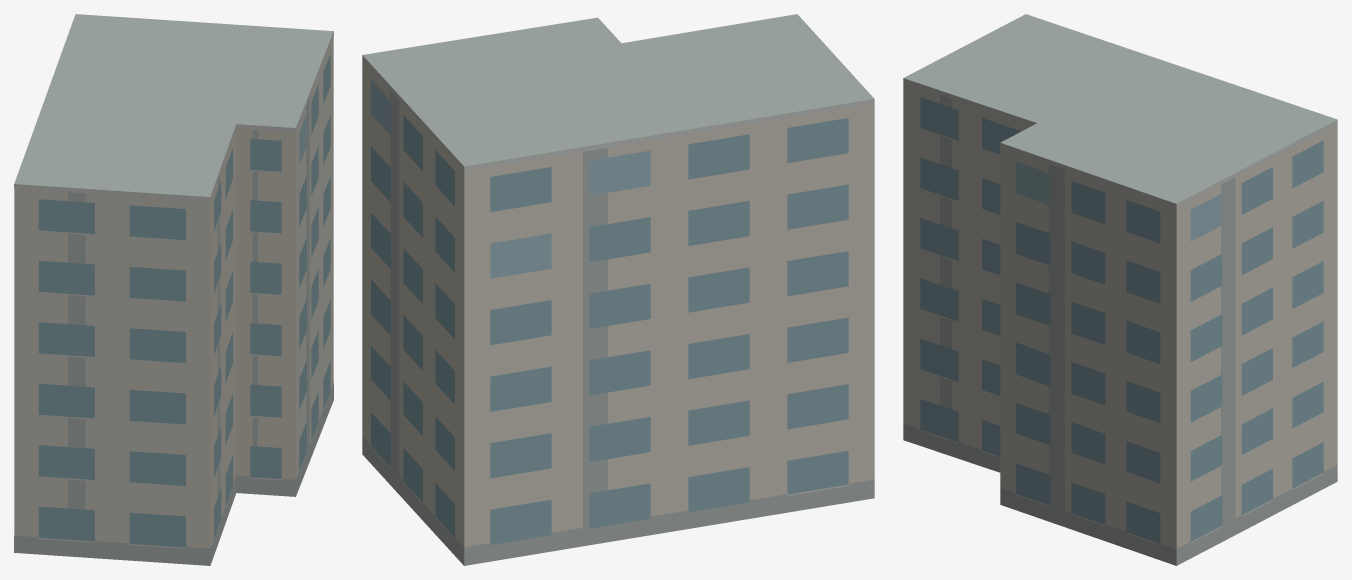
Rendered from survey-upis-32964914.glb.
The picture shows the model from 3 angles, left to right: view 1: azimuth 30°, elevation 25°; view 2: azimuth 150°, elevation 25°; view 3: azimuth 270°, elevation 25°; orthographic projection. The views are drawn at different scales.
Visible parts, largest first — view 1: survey-upis-32964914.tmp; view 2: survey-upis-32964914.tmp; view 3: survey-upis-32964914.tmp.
Part boxes in pixels (x1,y1,x2,y2): survey-upis-32964914.tmp: (14, 14, 333, 565); survey-upis-32964914.tmp: (362, 14, 874, 565); survey-upis-32964914.tmp: (903, 14, 1337, 565).
Bounding box in the file's own units: 22.05 × 19.6 × 21.32.
